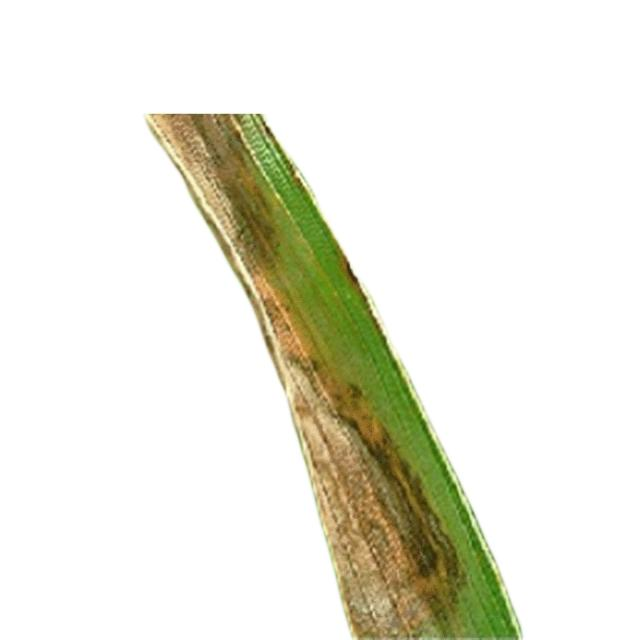Leaf scald: (95, 105, 584, 640)
